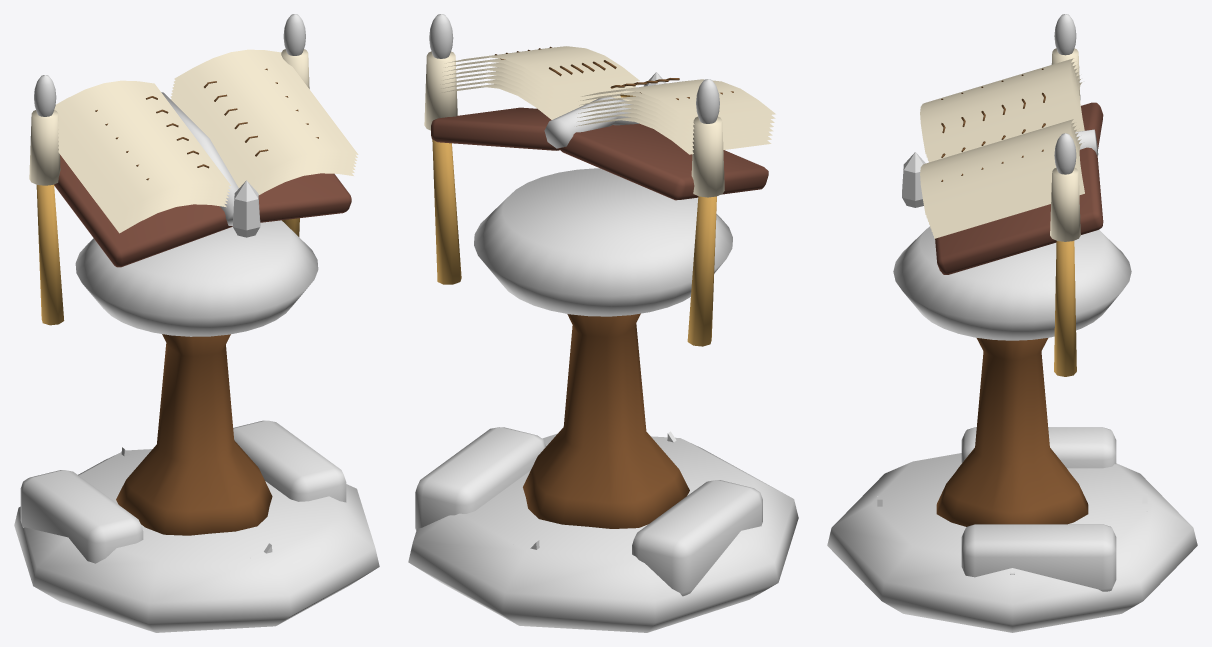
Rendered from book-2.fbx.
3 views of the same model, side by side, from view 1: azimuth 30°, elevation 25°; view 2: azimuth 150°, elevation 25°; view 3: azimuth 270°, elevation 25° (orthographic). The views are drawn at different scales.
Visible parts, largest first — view 1: Pages_Organic, LibraryStone, Turret_Organic, ReadingPlinth, Base_Bark, Turret_Glow, Bookmark, BookSpine; view 2: LibraryStone, Turret_Organic, Pages_Organic, ReadingPlinth, Base_Bark, BookSpine, Turret_Glow; view 3: LibraryStone, Pages_Organic, Turret_Organic, ReadingPlinth, Base_Bark, Turret_Glow, Bookmark.
Part boxes in pixels (x1=…): Pages_Organic: x1=54, y1=49, x2=358, y2=267; LibraryStone: x1=14, y1=449, x2=379, y2=632; Turret_Organic: x1=29, y1=49, x2=309, y2=535; ReadingPlinth: x1=75, y1=220, x2=318, y2=336; Base_Bark: x1=20, y1=420, x2=346, y2=563; Turret_Glow: x1=34, y1=14, x2=305, y2=116; Bookmark: x1=233, y1=180, x2=260, y2=237; BookSpine: x1=161, y1=92, x2=238, y2=225; LibraryStone: x1=408, y1=433, x2=798, y2=632; Turret_Organic: x1=424, y1=51, x2=724, y2=528; Pages_Organic: x1=431, y1=46, x2=775, y2=200; ReadingPlinth: x1=474, y1=168, x2=732, y2=316; Base_Bark: x1=415, y1=427, x2=762, y2=596; BookSpine: x1=544, y1=97, x2=638, y2=148; Turret_Glow: x1=429, y1=14, x2=719, y2=123; LibraryStone: x1=827, y1=453, x2=1197, y2=632; Pages_Organic: x1=920, y1=58, x2=1103, y2=274; Turret_Organic: x1=936, y1=48, x2=1088, y2=526; ReadingPlinth: x1=893, y1=226, x2=1131, y2=340; Base_Bark: x1=961, y1=427, x2=1116, y2=591; Turret_Glow: x1=1054, y1=14, x2=1076, y2=174; Bookmark: x1=902, y1=152, x2=925, y2=207.
Size of the model in its own units: 84 by 124 by 84.
